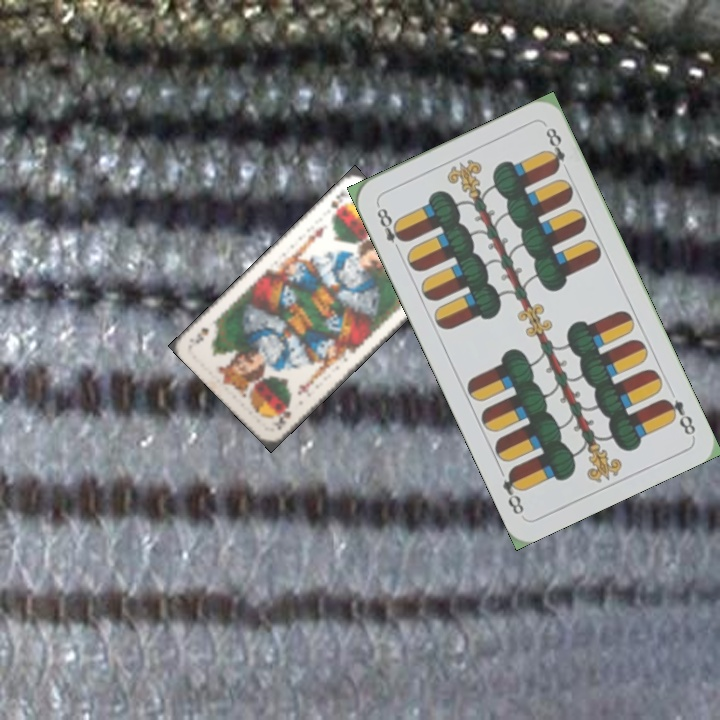E8: (373, 200, 409, 256), (658, 394, 699, 438)
SK: (269, 401, 294, 433), (326, 187, 351, 219)
